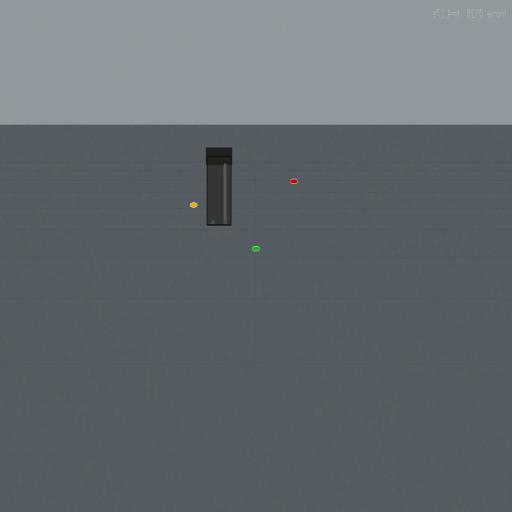bin: (206, 147, 232, 226)
